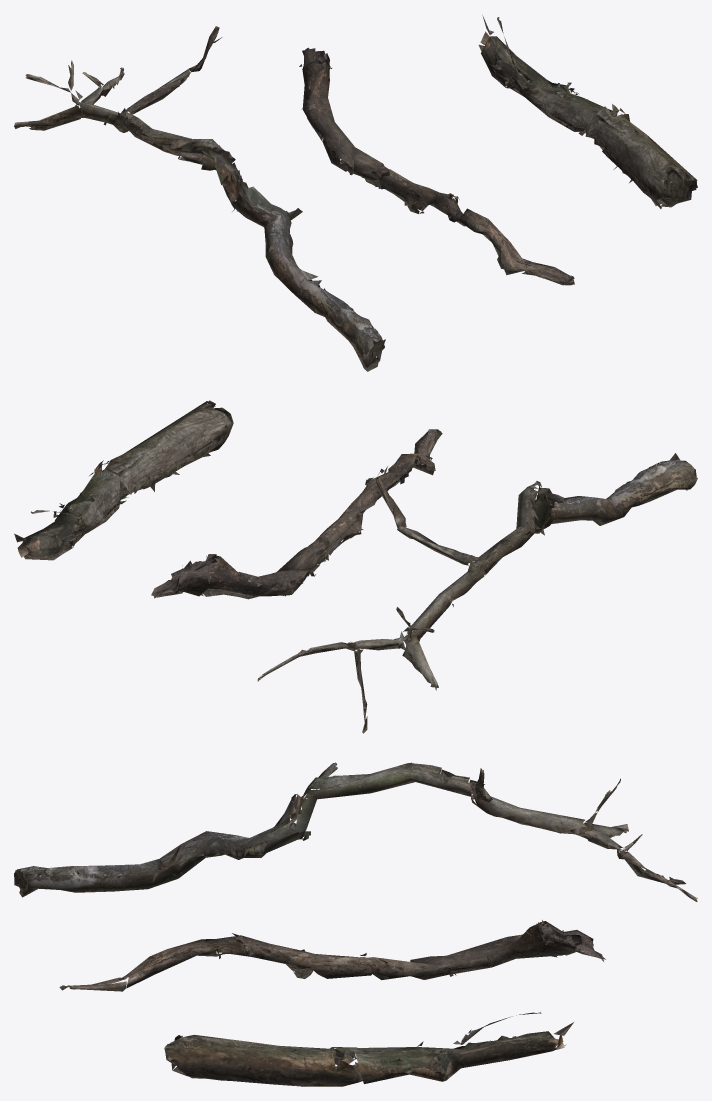
The model's file is dry_branches_medium_01.glb.
The picture shows the model from 3 angles, top to bottom: view 1: azimuth 30°, elevation 25°; view 2: azimuth 150°, elevation 25°; view 3: azimuth 270°, elevation 25°; orthographic projection. The views are drawn at different scales.
Parts seen in each view (by area): view 1: dry_branches_medium_01_a, dry_branches_medium_01_c, dry_branches_medium_01_b; view 2: dry_branches_medium_01_a, dry_branches_medium_01_c, dry_branches_medium_01_b; view 3: dry_branches_medium_01_a, dry_branches_medium_01_c, dry_branches_medium_01_b.
Part boxes in pixels (x1,y1,x2,y2): dry_branches_medium_01_a: (14, 26, 385, 371); dry_branches_medium_01_c: (478, 15, 697, 208); dry_branches_medium_01_b: (299, 47, 574, 285); dry_branches_medium_01_a: (257, 453, 697, 733); dry_branches_medium_01_c: (14, 400, 233, 560); dry_branches_medium_01_b: (151, 429, 442, 599); dry_branches_medium_01_a: (14, 762, 697, 901); dry_branches_medium_01_c: (164, 1012, 573, 1086); dry_branches_medium_01_b: (59, 920, 605, 991).
Bounding box in the file's own units: 1.06 × 0.3397 × 1.3.
Materials: 1 (1 with a texture image).
